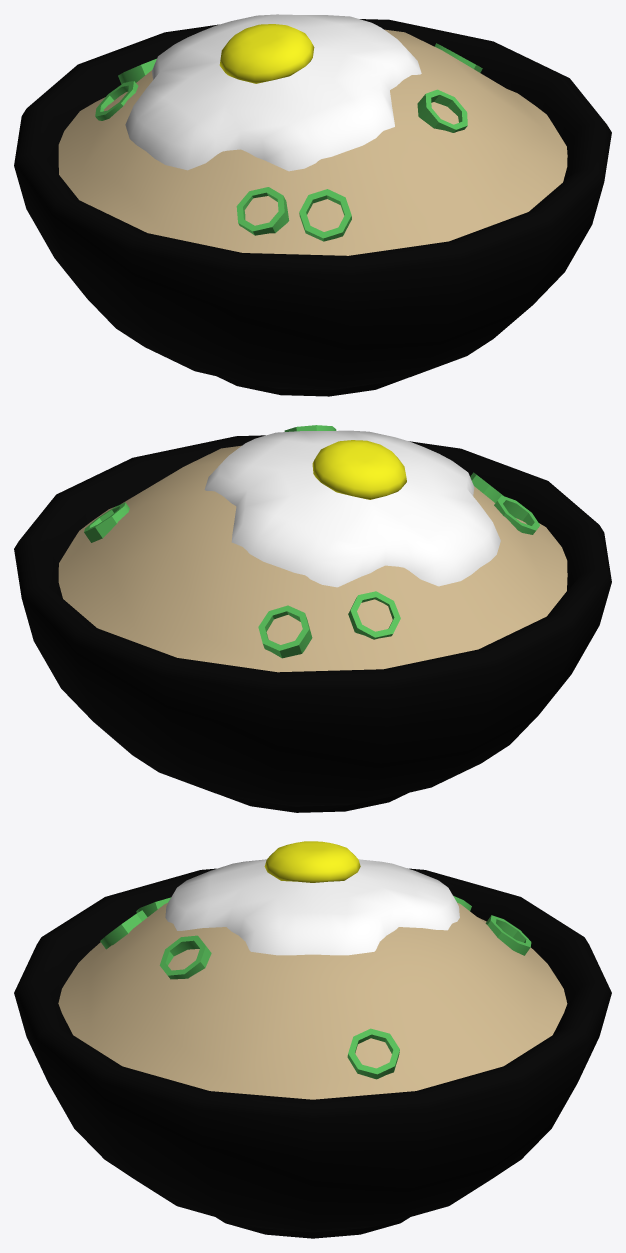
The model's file is ASFTR_Bowl_RiceEggOnion.fbx.
3 views of the same model, one above another, from view 1: azimuth 30°, elevation 25°; view 2: azimuth 150°, elevation 25°; view 3: azimuth 270°, elevation 25° (orthographic).
Visible parts, largest first — view 1: ASFTR_Bowl_RiceEggOnion; view 2: ASFTR_Bowl_RiceEggOnion; view 3: ASFTR_Bowl_RiceEggOnion.
Boxes of the visible parts, left/top/right/bottom form: ASFTR_Bowl_RiceEggOnion: left=14, top=14, right=611, bottom=396; ASFTR_Bowl_RiceEggOnion: left=14, top=425, right=611, bottom=812; ASFTR_Bowl_RiceEggOnion: left=14, top=841, right=611, bottom=1238.
Size of the model in its own units: 60.78 by 35.67 by 60.78.
